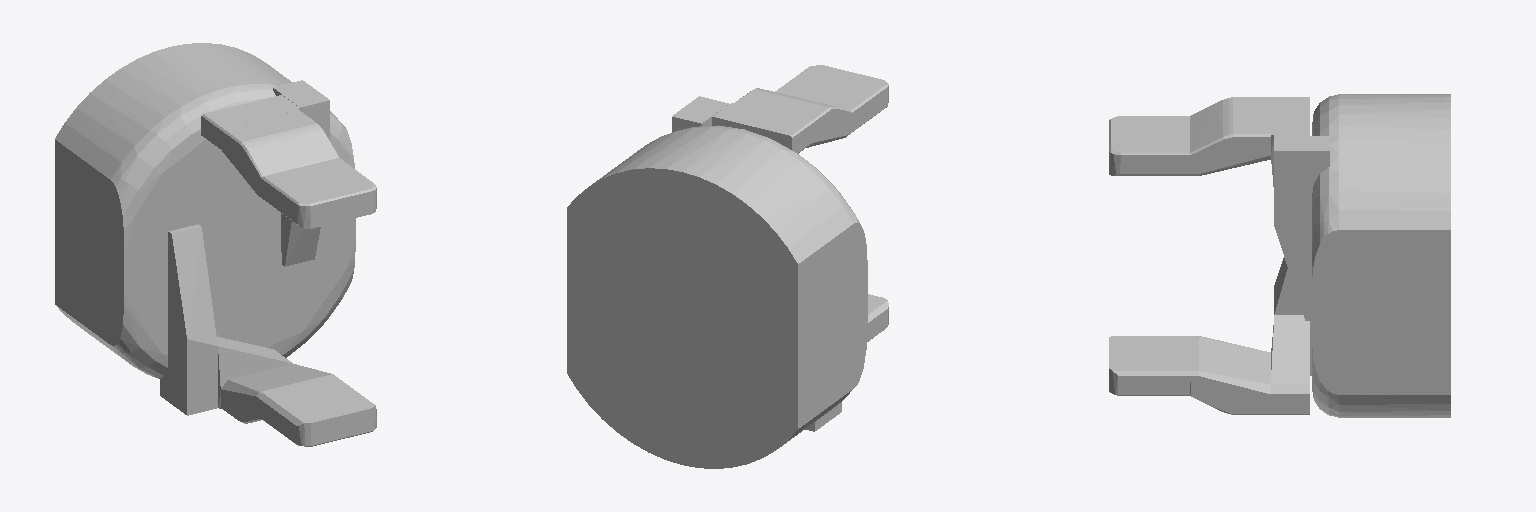
File: small_gripper.obj
3 renders of one model, left to right at view 1: azimuth 30°, elevation 25°; view 2: azimuth 150°, elevation 25°; view 3: azimuth 270°, elevation 25°, orthographic.
Visible parts, largest first — view 1: small_gripper; view 2: small_gripper; view 3: small_gripper.
Boxes of the visible parts, box(x1,y1,x2,y2) form: small_gripper: box(55, 43, 376, 446); small_gripper: box(567, 65, 888, 468); small_gripper: box(1109, 94, 1450, 417).
Size of the model in its own units: 0.062 by 0.075 by 0.0794.